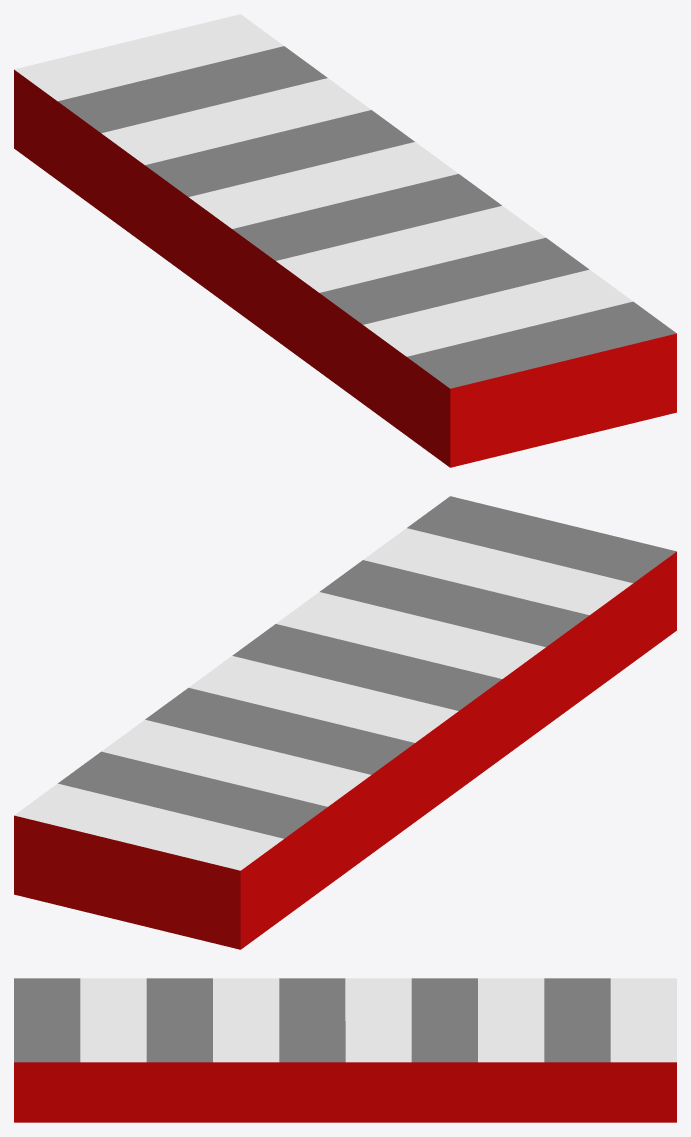
Rendered from Track_Large.fbx.
3 views of the same model, one above another, from view 1: azimuth 30°, elevation 25°; view 2: azimuth 150°, elevation 25°; view 3: azimuth 270°, elevation 25° (orthographic). The views are drawn at different scales.
Visible parts, largest first — view 1: Track_Large; view 2: Track_Large; view 3: Track_Large.
Part boxes in pixels (x1,y1,x2,y2): Track_Large: (14,14,676,467); Track_Large: (14,496,676,949); Track_Large: (14,978,676,1122).
Bounding box in the file's own units: 900 × 300 × 3000.
